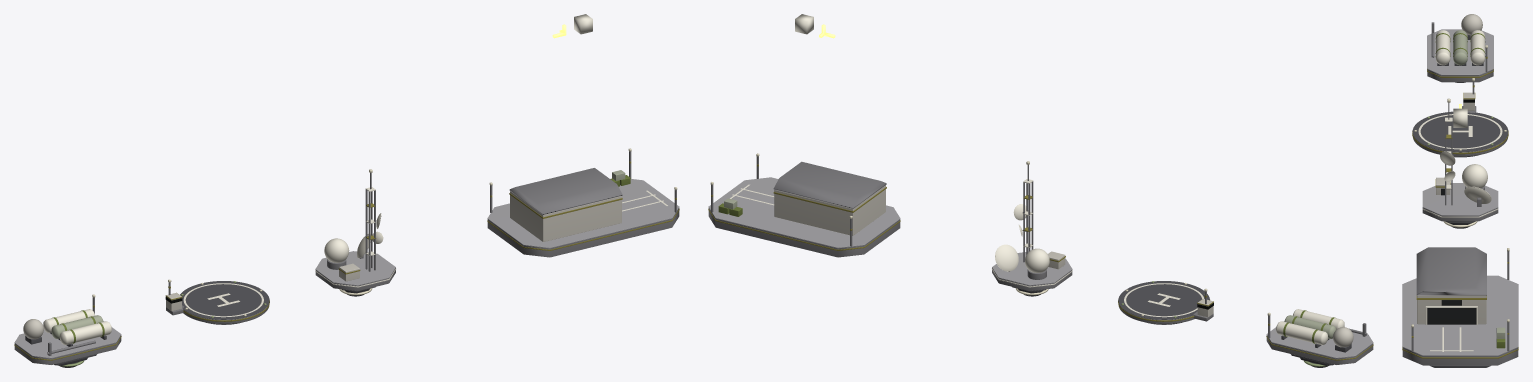
The model's file is backdrop.fbx.
3 views of the same model, side by side, from view 1: azimuth 30°, elevation 25°; view 2: azimuth 150°, elevation 25°; view 3: azimuth 270°, elevation 25° (orthographic). The views are drawn at different scales.
Visible parts, largest first — view 1: B_HangarDeck__deck_top, B_HangarDeck__roof_metal, B_HangarDeck__shed_wall, B_LandingPad__hull, B_HangarDeck__deck_side, B_CommsIsland__deck_top, B_FuelDepot__deck_top, B_FuelDepot__tank_cream, B_CommsIsland__mast_metal, B_FuelDepot__deck_side, B_HangarDeck__band_olive, B_CommsIsland__deck_side (+1 smaller); view 2: B_HangarDeck__deck_top, B_HangarDeck__roof_metal, B_HangarDeck__shed_wall, B_LandingPad__hull, B_HangarDeck__deck_side, B_FuelDepot__deck_top, B_FuelDepot__tank_cream, B_CommsIsland__deck_top, B_CommsIsland__line_cream, B_FuelDepot__deck_side, B_CommsIsland__mast_metal, B_HangarDeck__band_olive (+1 smaller); view 3: B_HangarDeck__deck_top, B_HangarDeck__roof_metal, B_LandingPad__hull, B_CommsIsland__deck_top, B_FuelDepot__deck_top, B_HangarDeck__deck_side, B_HangarDeck__door_dark, B_FuelDepot__tank_cream, B_HangarDeck__shed_wall, B_CommsIsland__line_cream, B_CommsIsland__tank_cream, B_CommsIsland__deck_side (+19 smaller).
Part boxes in pixels (x1,y1,x2,y2): B_HangarDeck__deck_top: (487, 179, 679, 247); B_HangarDeck__roof_metal: (509, 168, 622, 214); B_HangarDeck__shed_wall: (510, 191, 621, 242); B_LandingPad__hull: (180, 281, 269, 324); B_HangarDeck__deck_side: (487, 208, 679, 257); B_CommsIsland__deck_top: (315, 251, 395, 285); B_FuelDepot__deck_top: (14, 321, 121, 358); B_FuelDepot__tank_cream: (43, 309, 111, 345); B_CommsIsland__mast_metal: (360, 173, 376, 271); B_FuelDepot__deck_side: (14, 335, 121, 364); B_HangarDeck__band_olive: (487, 161, 679, 250); B_CommsIsland__deck_side: (315, 259, 395, 290); B_HangarDeck__deck_top: (708, 177, 900, 247); B_HangarDeck__roof_metal: (773, 161, 886, 208); B_HangarDeck__shed_wall: (774, 185, 885, 235); B_LandingPad__hull: (1118, 281, 1209, 324); B_HangarDeck__deck_side: (708, 208, 900, 257); B_FuelDepot__deck_top: (1266, 321, 1373, 358); B_FuelDepot__tank_cream: (1276, 309, 1344, 345); B_CommsIsland__deck_top: (992, 252, 1072, 285); B_CommsIsland__line_cream: (992, 179, 1072, 287); B_FuelDepot__deck_side: (1266, 335, 1373, 364); B_CommsIsland__mast_metal: (1008, 165, 1033, 271); B_HangarDeck__band_olive: (708, 164, 900, 250); B_HangarDeck__deck_top: (1402, 275, 1518, 355); B_HangarDeck__roof_metal: (1416, 247, 1486, 295); B_LandingPad__hull: (1412, 111, 1508, 157); B_CommsIsland__deck_top: (1422, 183, 1498, 215); B_FuelDepot__deck_top: (1427, 29, 1493, 75); B_HangarDeck__deck_side: (1402, 347, 1518, 365); B_HangarDeck__door_dark: (1427, 300, 1476, 324); B_FuelDepot__tank_cream: (1436, 30, 1484, 65); B_HangarDeck__shed_wall: (1417, 295, 1486, 324); B_CommsIsland__line_cream: (1422, 117, 1498, 217); B_CommsIsland__tank_cream: (1462, 164, 1487, 188); B_CommsIsland__deck_side: (1422, 186, 1498, 221).
Size of the model in its own units: 53240 by 17730 by 8040.
